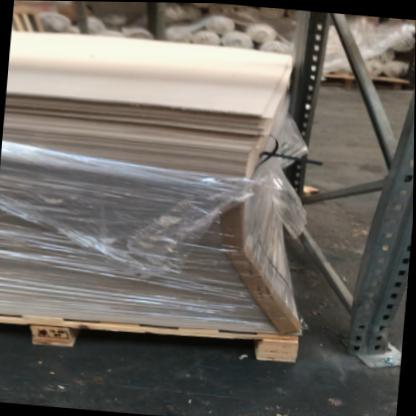vertical_damage: (331, 273, 409, 376)
